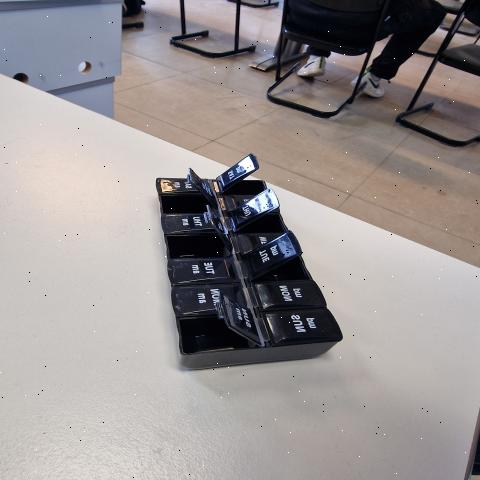Open: (178, 292, 261, 353), (166, 209, 232, 259), (250, 254, 312, 282), (233, 205, 285, 233), (165, 192, 214, 215), (224, 181, 265, 195)
